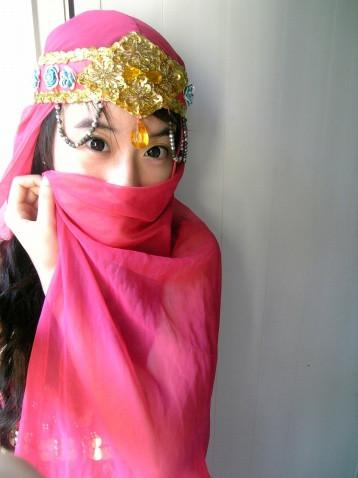WRONG: (54, 118, 178, 242)
